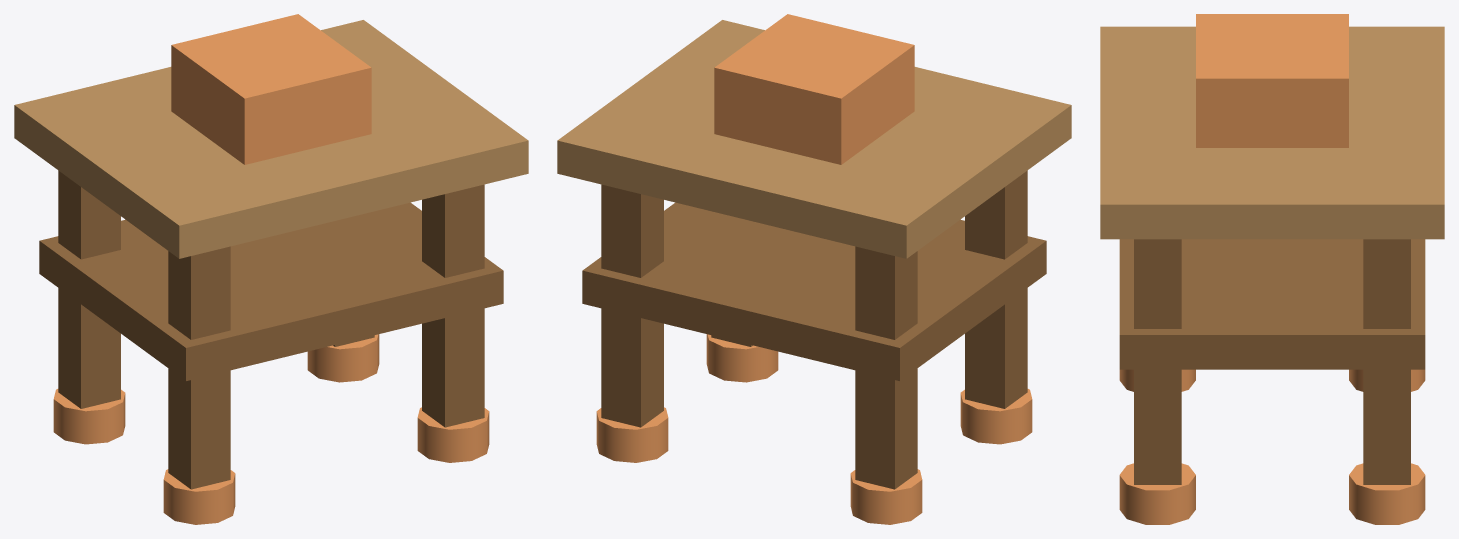
The model's file is kitchen_cart.glb.
3 renders of one model, left to right at view 1: azimuth 30°, elevation 25°; view 2: azimuth 150°, elevation 25°; view 3: azimuth 270°, elevation 25°, orthographic. The views are drawn at different scales.
Parts seen in each view (by area): view 1: kitchen_cart; view 2: kitchen_cart; view 3: kitchen_cart.
Boxes of the visible parts, bbox=[...] form: kitchen_cart: bbox=[14, 14, 528, 524]; kitchen_cart: bbox=[557, 14, 1071, 524]; kitchen_cart: bbox=[1100, 14, 1444, 524].
Size of the model in its own units: 22 by 23 by 18.
